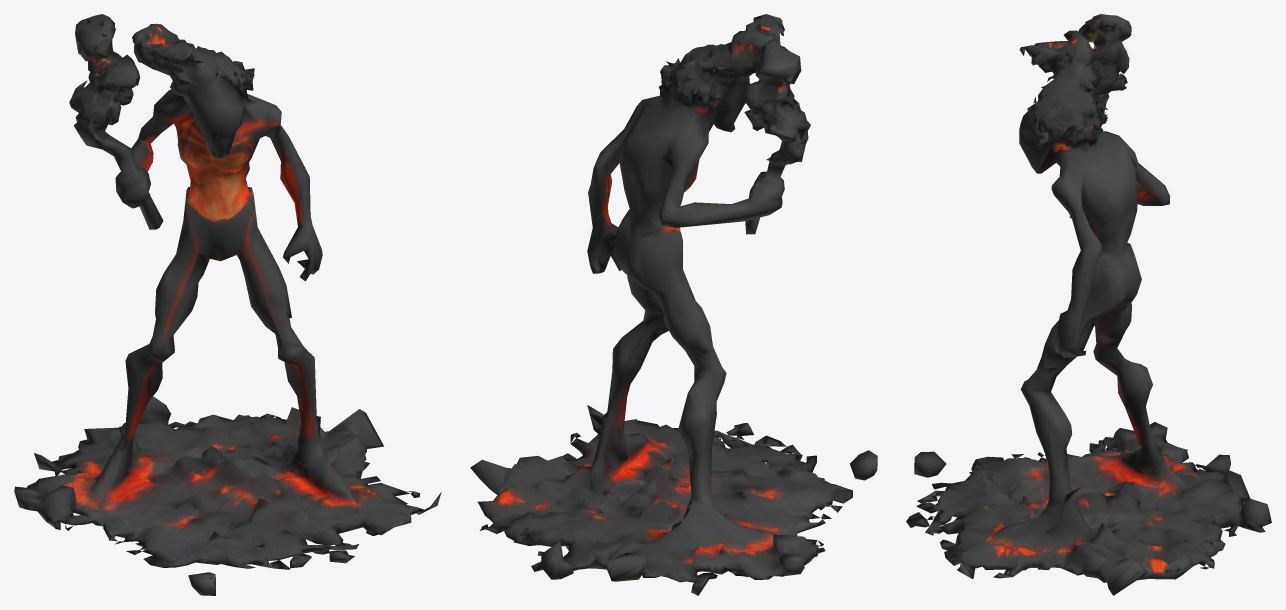
Rendered from elemental.glb.
3 views of the same model, side by side, from view 1: azimuth 30°, elevation 25°; view 2: azimuth 150°, elevation 25°; view 3: azimuth 270°, elevation 25° (orthographic). The views are drawn at different scales.
Size of the model in its own units: 1.43 by 2 by 1.45.
Materials: 1 (1 with a texture image).
